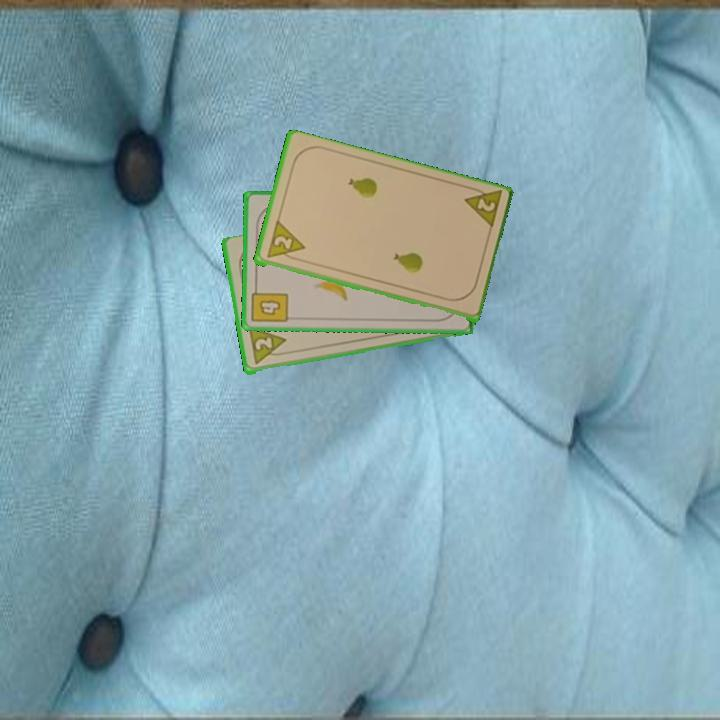2p: (460, 183, 504, 233), (245, 324, 290, 368), (263, 219, 307, 263)
4b: (248, 282, 291, 326)
